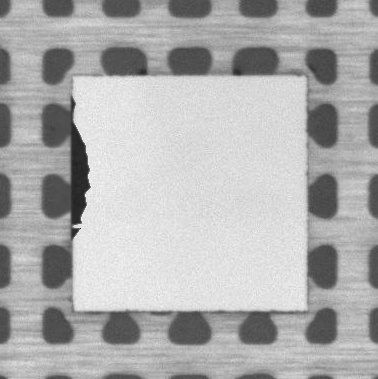DIE_BROKEN: (68, 93, 93, 240)
